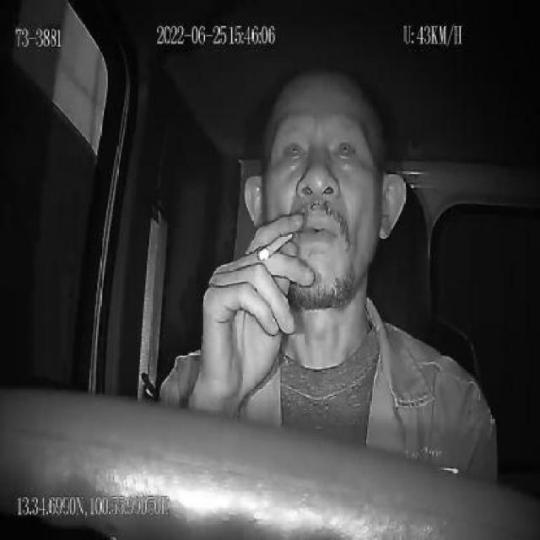smoking: (256, 232, 293, 262)
